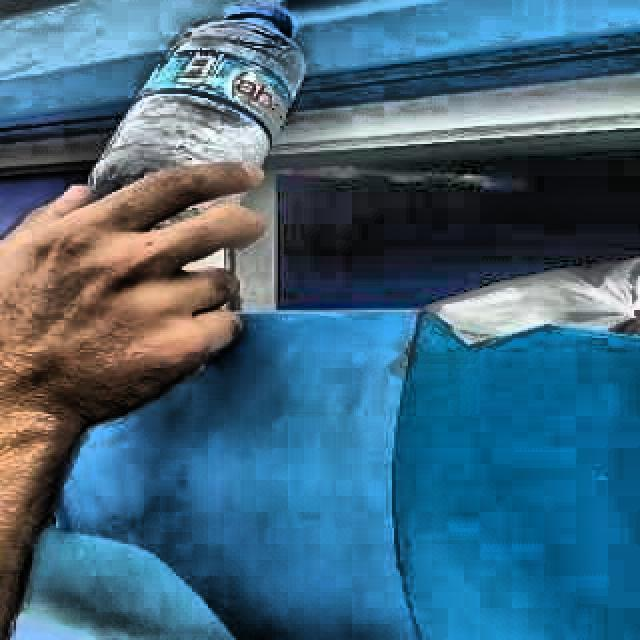plastic: (87, 7, 305, 195)
